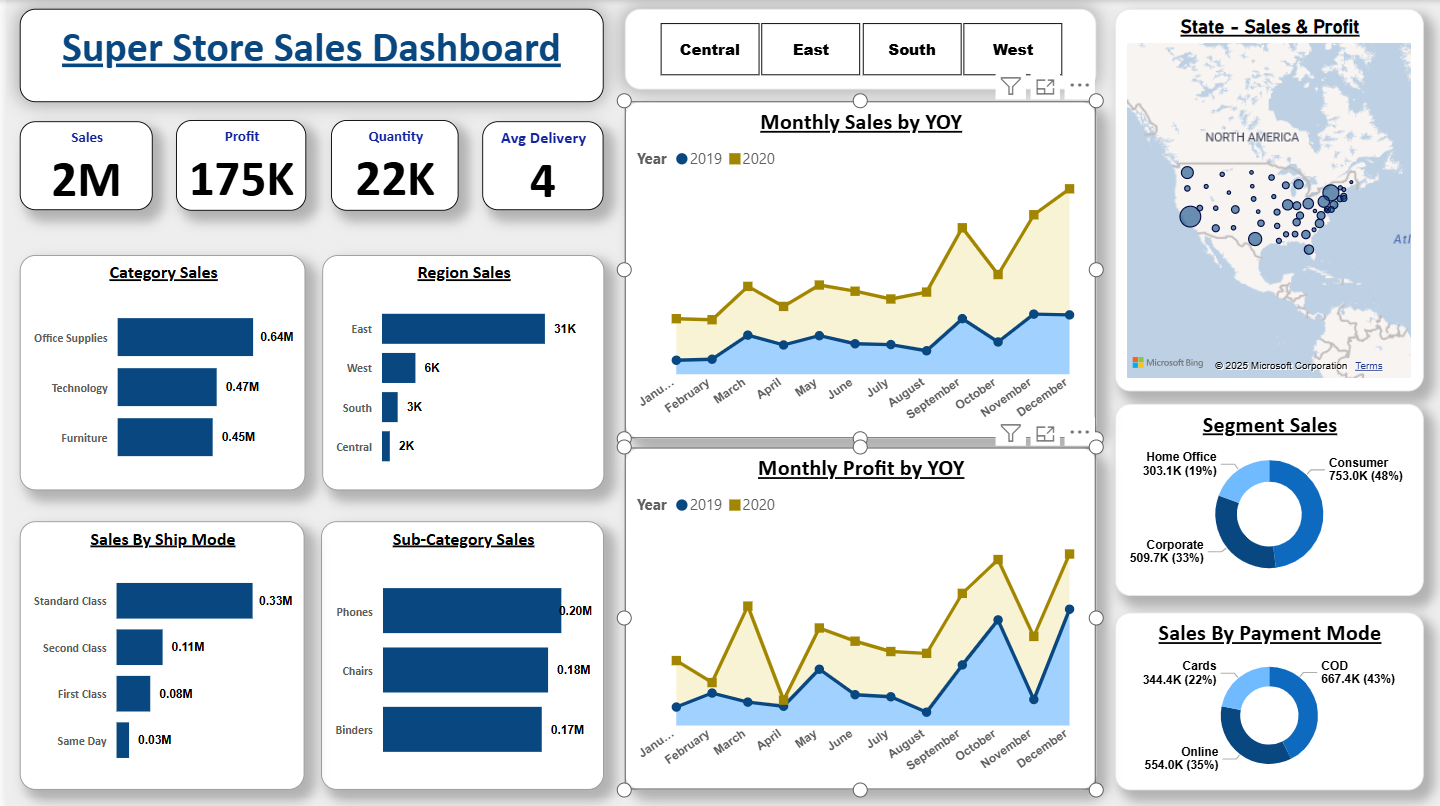

Layout of this report page (visuals, bound fields, positions):
{"tool":"powerbi","page":{"name":"Page 1","canvas":[1280,720],"ordinal":0},"visuals":[{"type":"clusteredBarChart","title":"Category Sales","fields":{"Category":["Sheet1.Category"],"Y":["Sum(Sheet1.Sales)"]},"box":[11.8,227.4,254.6,209.6],"z":0},{"type":"clusteredBarChart","title":"Sub-Category Sales","fields":{"Category":["Sheet1.Sub-Category"],"Y":["Sum(Sheet1.Sales)"]},"box":[280.2,464,252.3,239.5],"z":1000},{"type":"clusteredBarChart","title":"Sales By Ship Mode","fields":{"Y":["Sum(Sheet1.Sales)"],"Category":["Sheet1.Ship Mode"]},"box":[12.8,464,253.5,239.5],"z":2000},{"type":"stackedAreaChart","title":"Monthly Sales by YOY","fields":{"Y":["Sum(Sheet1.Sales)"],"Series":["Sheet1.Order Date.Variation.Date Hierarchy.Year"],"Category":["Sheet1.Order Date.Variation.Date Hierarchy.Month"]},"box":[551,90.2,419.7,300.6],"z":3000},{"type":"stackedAreaChart","title":"Monthly Profit by YOY","fields":{"Series":["Sheet1.Order Date.Variation.Date Hierarchy.Year"],"Category":["Sheet1.Order Date.Variation.Date Hierarchy.Month"],"Y":["Sum(Sheet1.Profit)"]},"box":[551,398.5,419.7,305],"z":4000},{"type":"map","title":"State - Sales & Profit","fields":{"Category":["Sheet1.State"],"Size":["Sum(Sheet1.Sales)"]},"box":[987.4,7.8,275,340.6],"z":5000},{"type":"donutChart","title":"Segment  Sales ","fields":{"Category":["Sheet1.Segment"],"Y":["Sum(Sheet1.Sales)"]},"box":[987.4,359.6,275,171.4],"z":6000},{"type":"donutChart","title":" Sales By Payment Mode ","fields":{"Category":["Sheet1.Payment Mode"],"Y":["Sum(Sheet1.Sales)"]},"box":[987.4,545.5,275,158.1],"z":7000},{"type":"slicer","fields":{"Values":["Sheet1.Region"]},"box":[551,7.8,419.7,72.4],"z":8000},{"type":"textbox","box":[11.8,8.3,519.9,82.9],"z":9000},{"type":"card","title":"Sales","fields":{"Values":["Sum(Sheet1.Sales)"]},"box":[11.8,107.8,118.4,79.3],"z":10000},{"type":"card","title":"Quantity","fields":{"Values":["Sum(Sheet1.Quantity)"]},"box":[289,106.6,113.7,80.5],"z":11000},{"type":"card","title":"Profit","fields":{"Values":["Sum(Sheet1.Profit)"]},"box":[151.6,106.6,116.1,80.5],"z":12000},{"type":"card","title":"Avg Delivery","fields":{"Values":["Avg(Sheet1.Avg Delivery)"]},"box":[424,107.8,107.8,79.3],"z":13000},{"type":"clusteredBarChart","title":"Region Sales","fields":{"Y":["Sum(Sheet1.Sales)"],"Category":["Sheet1.Region"]},"box":[281.9,227.4,251.1,209.6],"z":14000}]}

Visuals, with their boxes in screenshot pixels (x1, y1, x2, y2), scaled from the page's 1280x720 canvas onto the 1440x806 screenshot:
"Category Sales" clusteredBarChart: Rect(13, 255, 300, 489)
"Sub-Category Sales" clusteredBarChart: Rect(315, 519, 599, 788)
"Sales By Ship Mode" clusteredBarChart: Rect(14, 519, 300, 788)
"Monthly Sales by YOY" stackedAreaChart: Rect(620, 101, 1092, 437)
"Monthly Profit by YOY" stackedAreaChart: Rect(620, 446, 1092, 788)
"State - Sales & Profit" map: Rect(1111, 9, 1420, 390)
"Segment  Sales " donutChart: Rect(1111, 403, 1420, 594)
" Sales By Payment Mode " donutChart: Rect(1111, 611, 1420, 788)
slicer - Sheet1.Region: Rect(620, 9, 1092, 90)
textbox: Rect(13, 9, 598, 102)
"Sales" card: Rect(13, 121, 146, 209)
"Quantity" card: Rect(325, 119, 453, 209)
"Profit" card: Rect(171, 119, 301, 209)
"Avg Delivery" card: Rect(477, 121, 598, 209)
"Region Sales" clusteredBarChart: Rect(317, 255, 600, 489)
